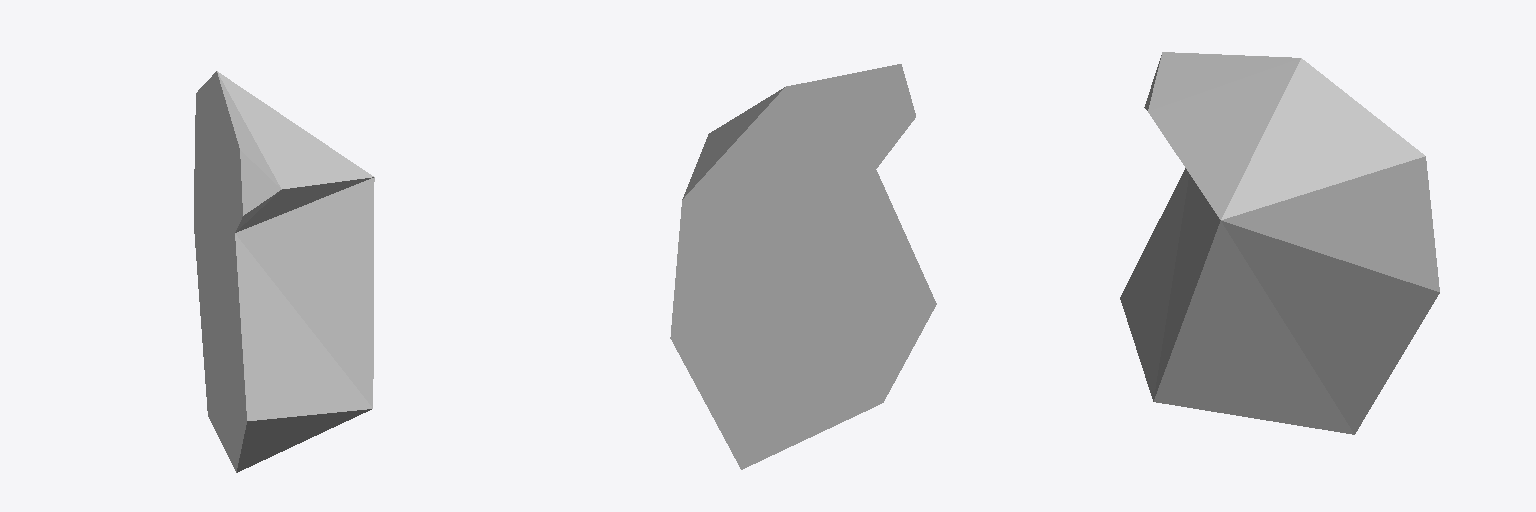
The model's file is 03_02_LHand.obj.
3 views of the same model, side by side, from view 1: azimuth 30°, elevation 25°; view 2: azimuth 150°, elevation 25°; view 3: azimuth 270°, elevation 25° (orthographic).
Parts seen in each view (by area): view 1: Object_32 nin05_ObjXForm Object_30 part05_XForm Object_25 part03; view 2: Object_32 nin05_ObjXForm Object_30 part05_XForm Object_25 part03; view 3: Object_32 nin05_ObjXForm Object_30 part05_XForm Object_25 part03.
Boxes of the visible parts, x1=… form: Object_32 nin05_ObjXForm Object_30 part05_XForm Object_25 part03: x1=194, y1=71, x2=374, y2=472; Object_32 nin05_ObjXForm Object_30 part05_XForm Object_25 part03: x1=670, y1=64, x2=936, y2=469; Object_32 nin05_ObjXForm Object_30 part05_XForm Object_25 part03: x1=1120, y1=52, x2=1439, y2=434.
Size of the model in its own units: 12.8 by 25.36 by 19.98.